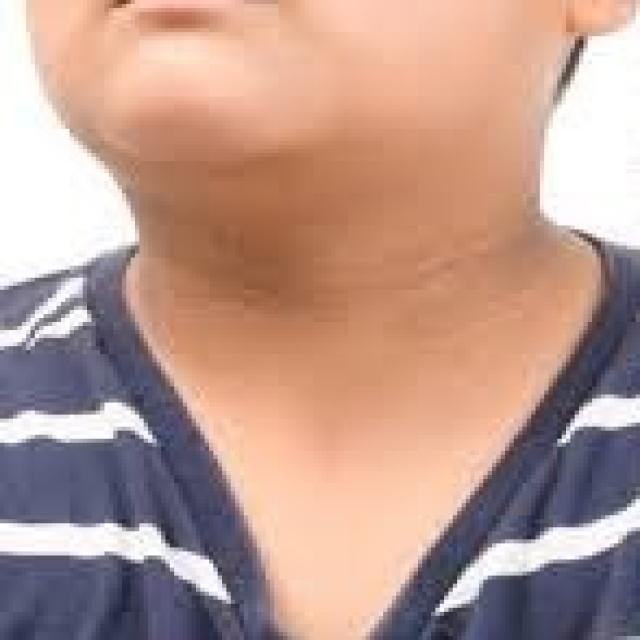Acanthosis Nigricans: (134, 159, 597, 374)
